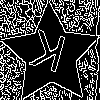K: (25, 29, 68, 82)
